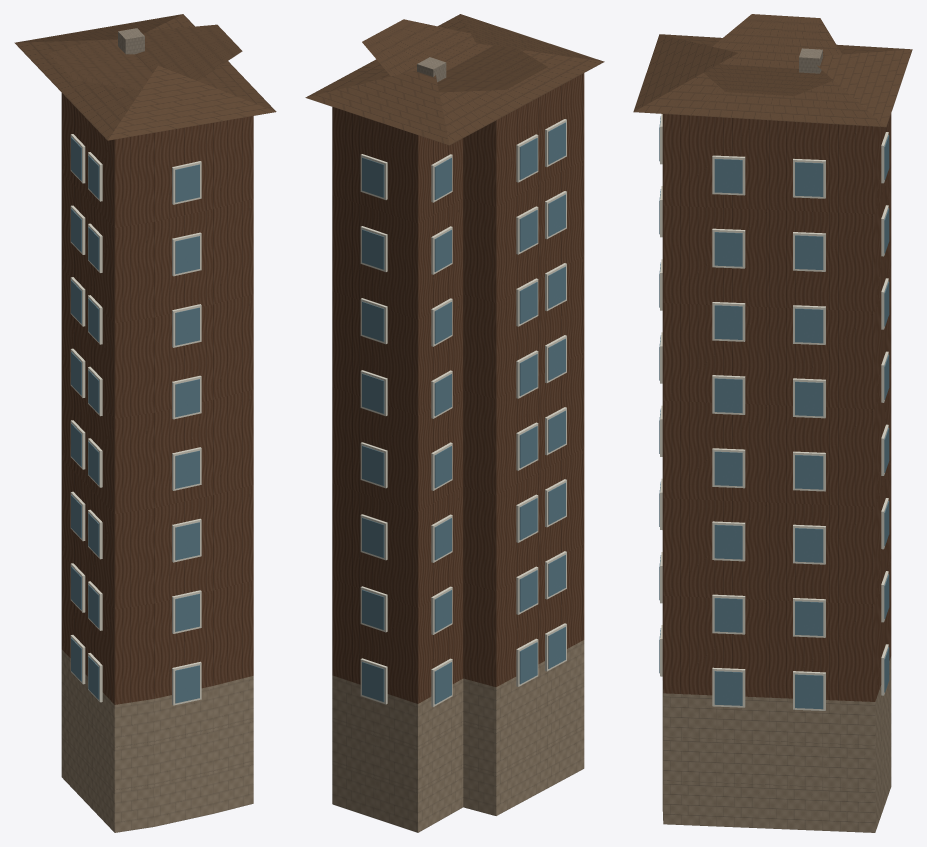
File: core_0109.gltf
3 renders of one model, left to right at view 1: azimuth 30°, elevation 25°; view 2: azimuth 150°, elevation 25°; view 3: azimuth 270°, elevation 25°, orthographic. The views are drawn at different scales.
Visible parts, largest first — view 1: core_0109; view 2: core_0109; view 3: core_0109.
Part boxes in pixels (x1=…): core_0109: x1=14, y1=14, x2=276, y2=832; core_0109: x1=305, y1=14, x2=604, y2=832; core_0109: x1=633, y1=14, x2=912, y2=832.
Bounding box in the file's own units: 7.78 × 29.05 × 9.86.
Materials: 6 (6 with a texture image).
